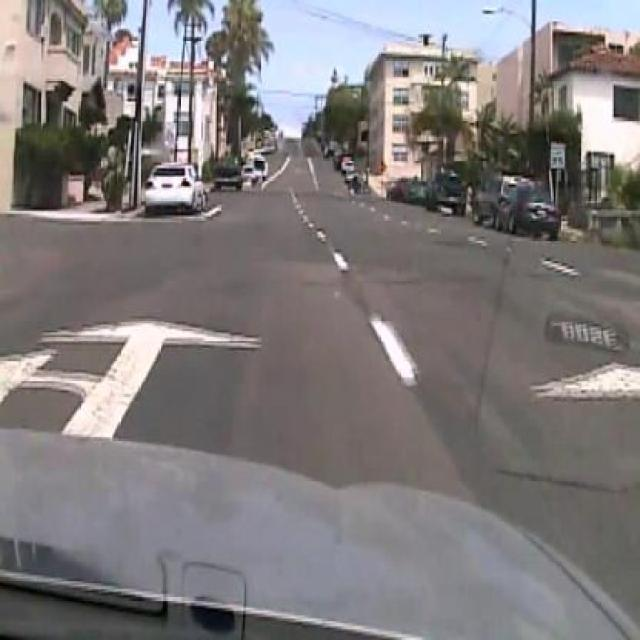speedLimit25: (549, 140, 565, 169)
